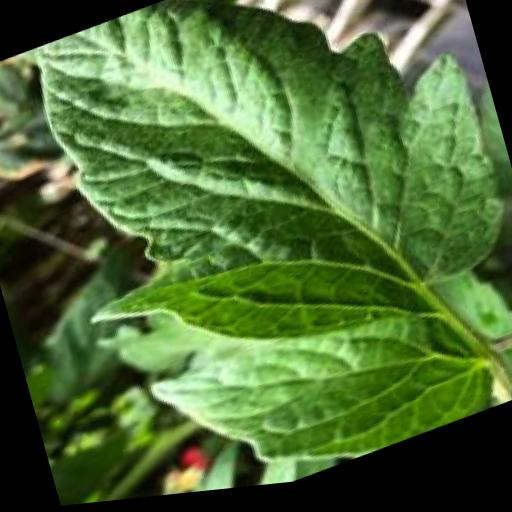Healthy: (8, 0, 512, 511)
